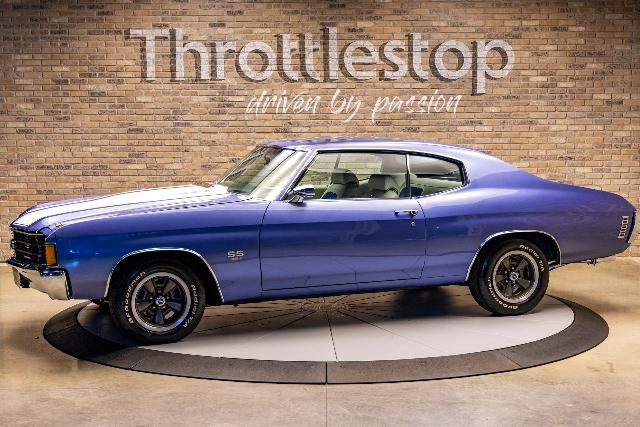chevelle-1972: (6, 137, 639, 344)
